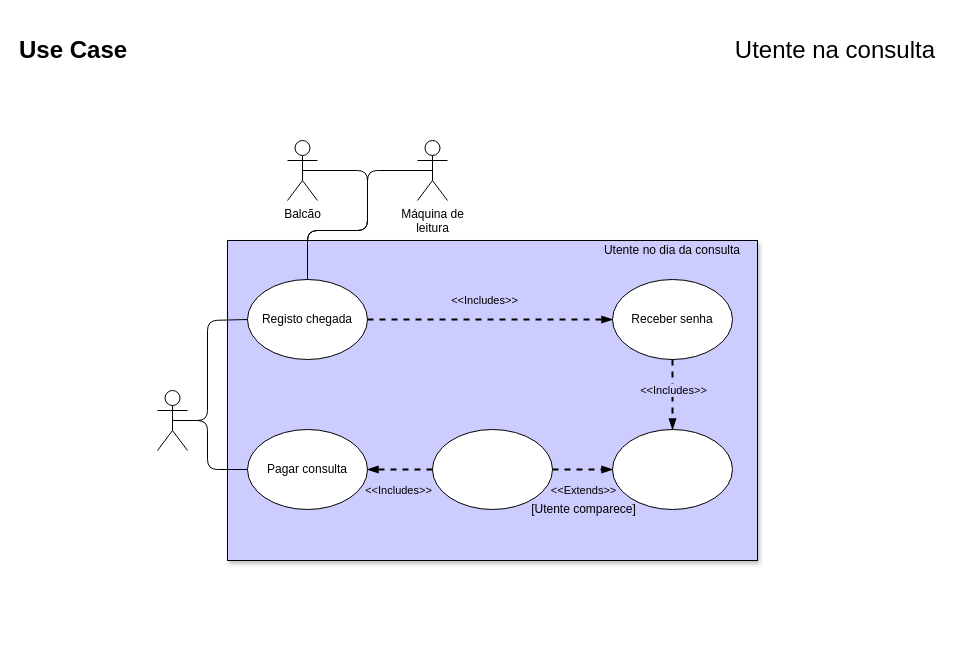
Some shapes in this 954 by 657 pixel diagram are drawn without their labels. Each missing label, with the centre of its shape:
"Realizar consulta" goes at (x=492, y=469).
"Senha é chamada" goes at (x=672, y=469).
"Utente" goes at (x=172, y=420).
